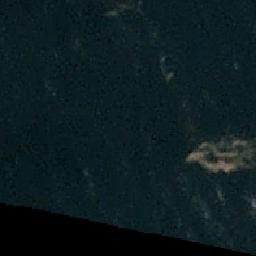debris: (184, 135, 256, 174)
